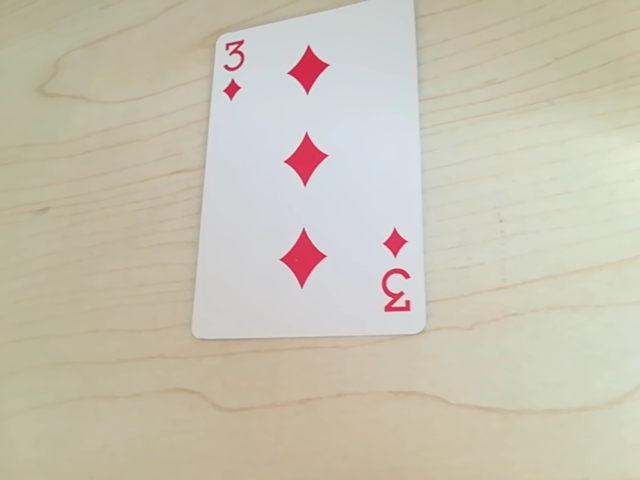fk 3: (214, 33, 250, 107), (375, 262, 416, 320)
